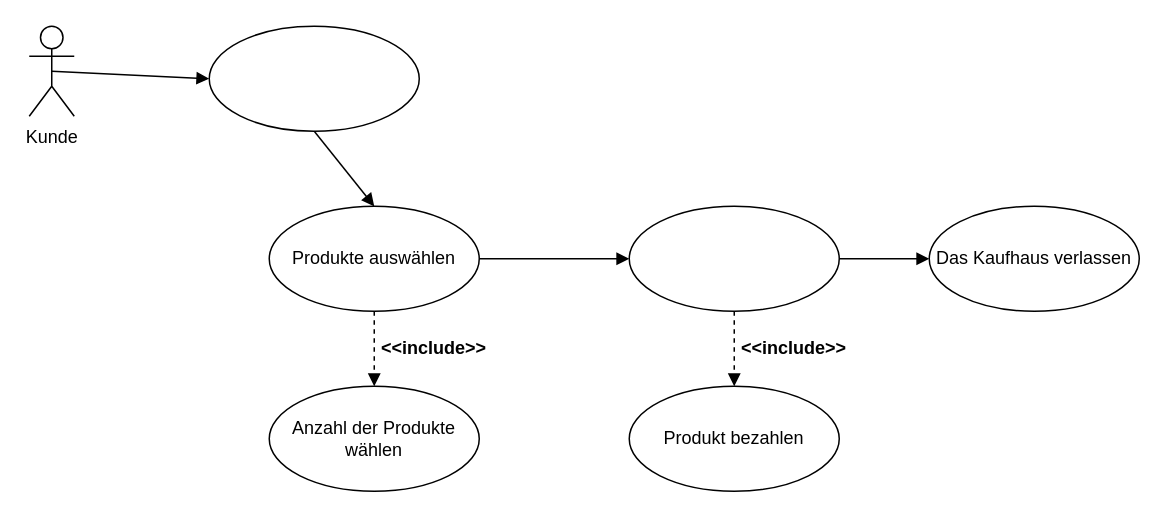
Some shapes in this 1166 by 518 pixel diagram are drawn without their labels. The centre of each missing label's shape, as x and y in pixels:
Kaufhaus betreten: (x=313, y=78)
Produkt kaufen: (x=733, y=258)
